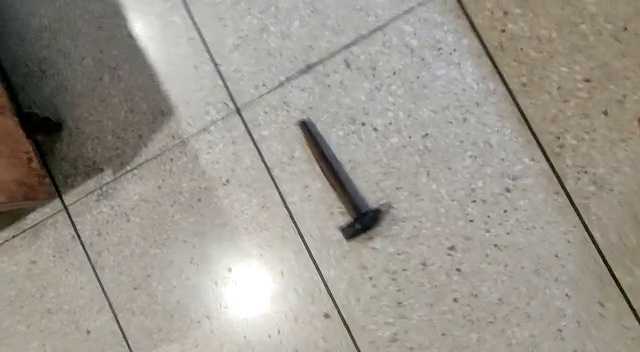hammer: (295, 118, 385, 242)
